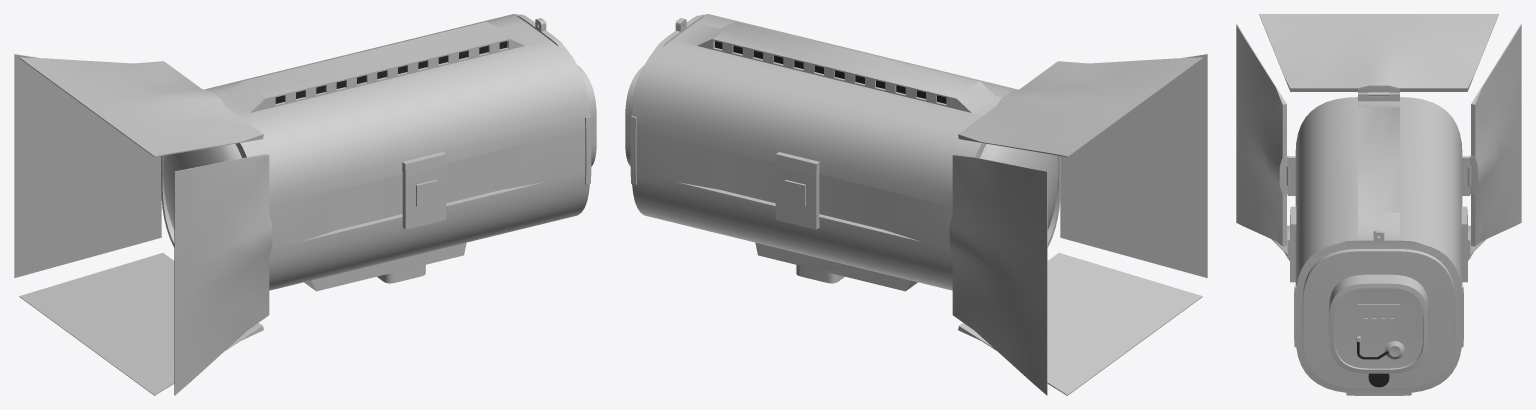
The model's file is studio_light.fbx.
3 views of the same model, side by side, from view 1: azimuth 30°, elevation 25°; view 2: azimuth 150°, elevation 25°; view 3: azimuth 270°, elevation 25° (orthographic). The views are drawn at different scales.
Visible parts, largest first — view 1: mesh_122, mesh_137, mesh_139, mesh_135, mesh_133, mesh_143, mesh_121; view 2: mesh_122, mesh_139, mesh_137, mesh_135, mesh_133, mesh_143, mesh_121; view 3: mesh_122, mesh_133, mesh_137, mesh_139, mesh_143, mesh_147, mesh_150, mesh_146.
Boxes of the visible parts, x1,y1,x2,y2 form: mesh_122: (161, 14, 596, 291); mesh_137: (14, 54, 161, 277); mesh_139: (174, 154, 272, 395); mesh_135: (19, 253, 263, 395); mesh_133: (19, 57, 263, 157); mesh_143: (402, 152, 446, 229); mesh_121: (162, 144, 241, 229); mesh_122: (625, 14, 1060, 291); mesh_139: (1060, 54, 1207, 277); mesh_137: (949, 154, 1047, 395); mesh_135: (958, 253, 1202, 395); mesh_133: (958, 57, 1202, 157); mesh_143: (775, 152, 819, 229); mesh_121: (980, 144, 1059, 229); mesh_122: (1287, 92, 1470, 395); mesh_133: (1259, 14, 1498, 96); mesh_137: (1467, 24, 1521, 246); mesh_139: (1236, 24, 1290, 246); mesh_143: (1287, 206, 1470, 282); mesh_147: (1357, 304, 1399, 318); mesh_150: (1384, 341, 1404, 359); mesh_146: (1368, 373, 1389, 387).
Bounding box in the file's own units: 758 × 360 × 438.
